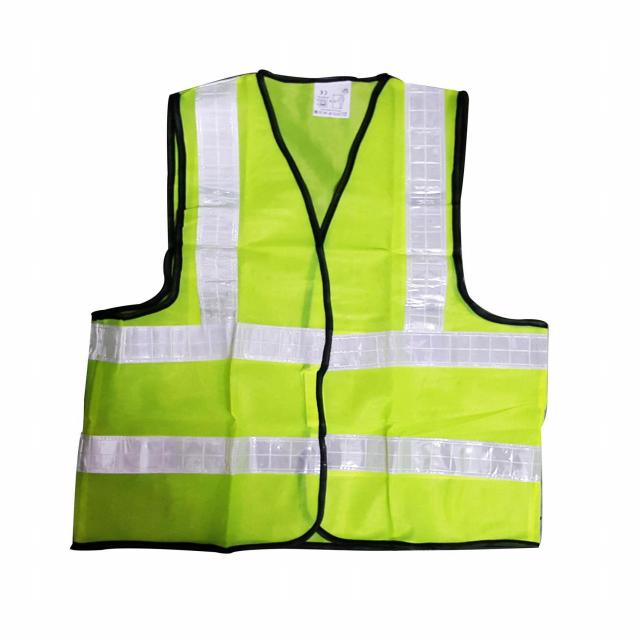Reflective-Jacket: (46, 58, 572, 562)
